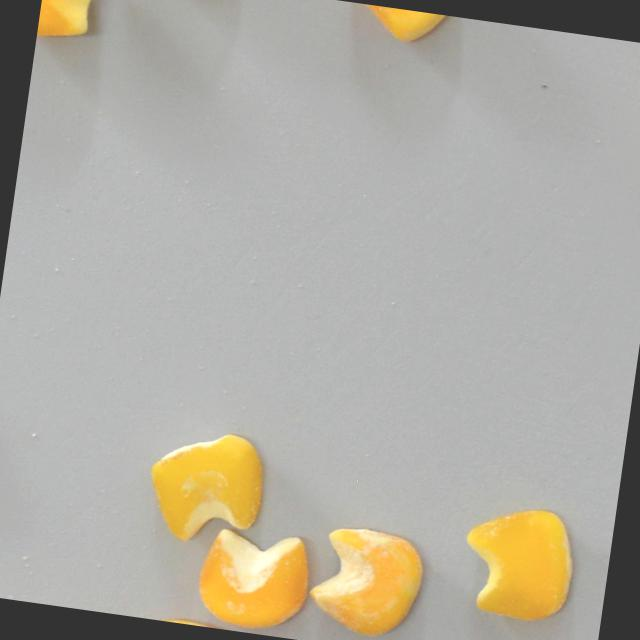pelicula: (447, 493, 591, 634), (140, 420, 274, 553), (296, 518, 434, 640), (189, 521, 317, 638), (337, 0, 460, 51), (36, 0, 100, 47)
